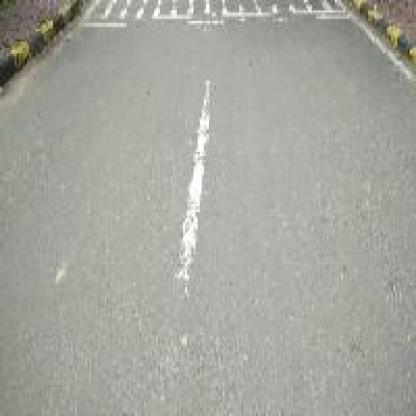Speed Bump: (81, 2, 345, 29)
